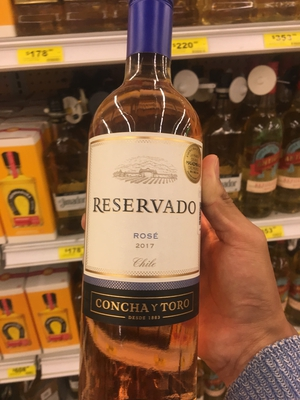reservado rose: (76, 12, 210, 395)
